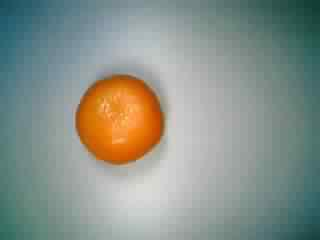orange: (72, 71, 168, 167)
